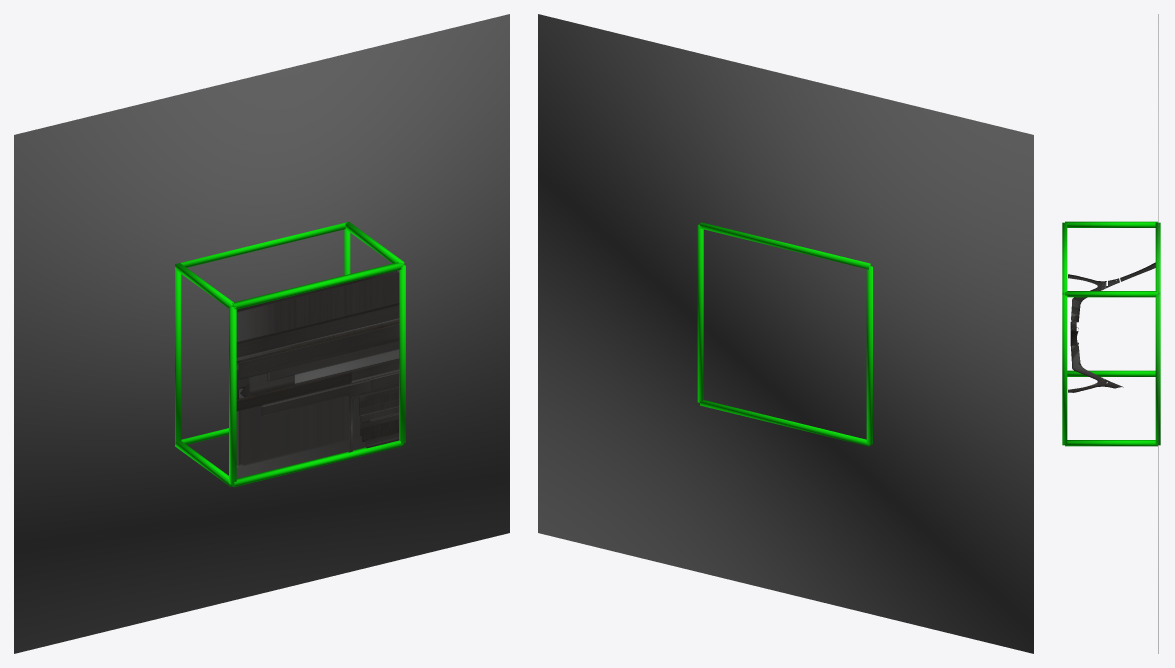
3 renders of one model, left to right at view 1: azimuth 30°, elevation 25°; view 2: azimuth 150°, elevation 25°; view 3: azimuth 270°, elevation 25°, orthographic. The views are drawn at different scales.
Bounding box in the file's own units: 2 × 2 × 0.407.
